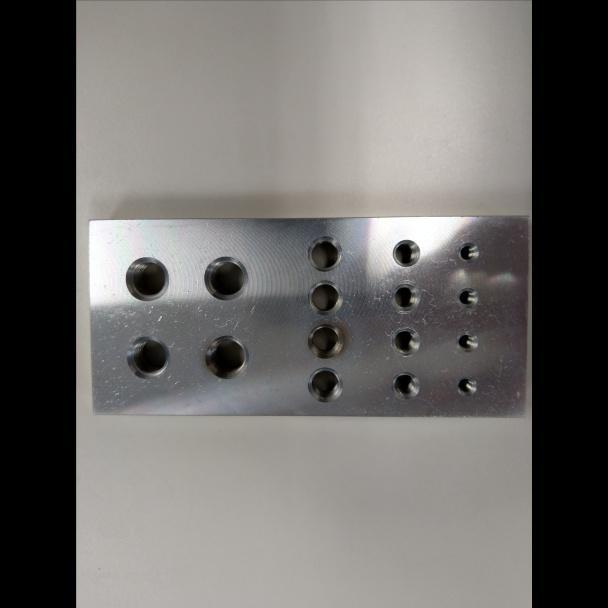hole: (203, 334, 249, 379), (124, 256, 169, 302), (202, 255, 248, 300), (126, 336, 170, 379), (305, 279, 343, 316), (305, 235, 343, 272), (307, 366, 343, 402), (307, 323, 343, 359), (389, 326, 420, 357), (391, 238, 421, 267), (390, 371, 419, 400), (390, 283, 420, 311), (454, 331, 478, 353), (456, 241, 479, 263), (456, 286, 478, 308), (455, 375, 476, 396)
